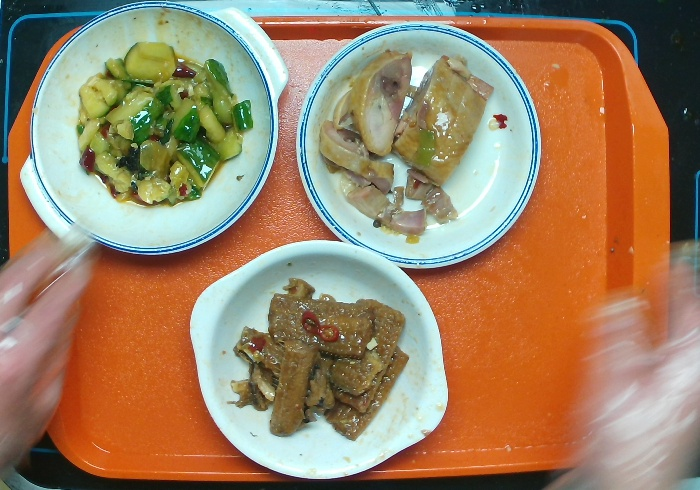HZYJPL-Dai_Er_Bai_Yuan_Wan: (186, 239, 449, 481)
HZYJPL-Lan_Bian_Dai_Er_Wan: (16, 1, 289, 257)
HZYJPL-Lan_Bian_Yuan_Die: (292, 19, 546, 272)
